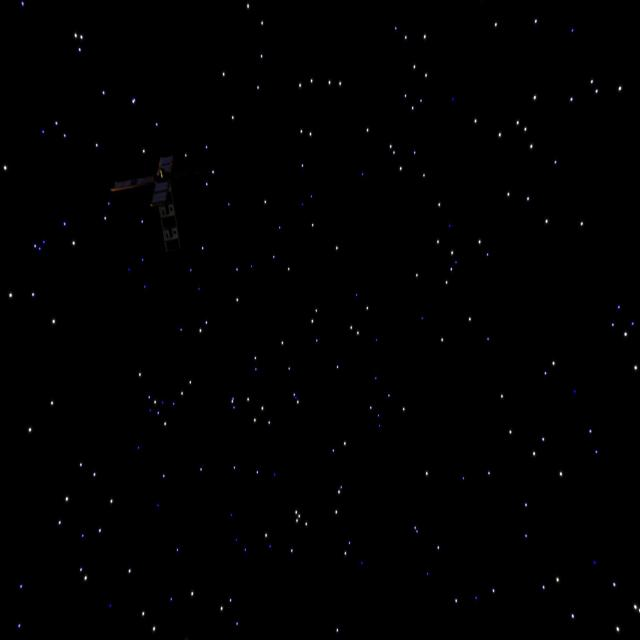satellite: (109, 148, 201, 255)
